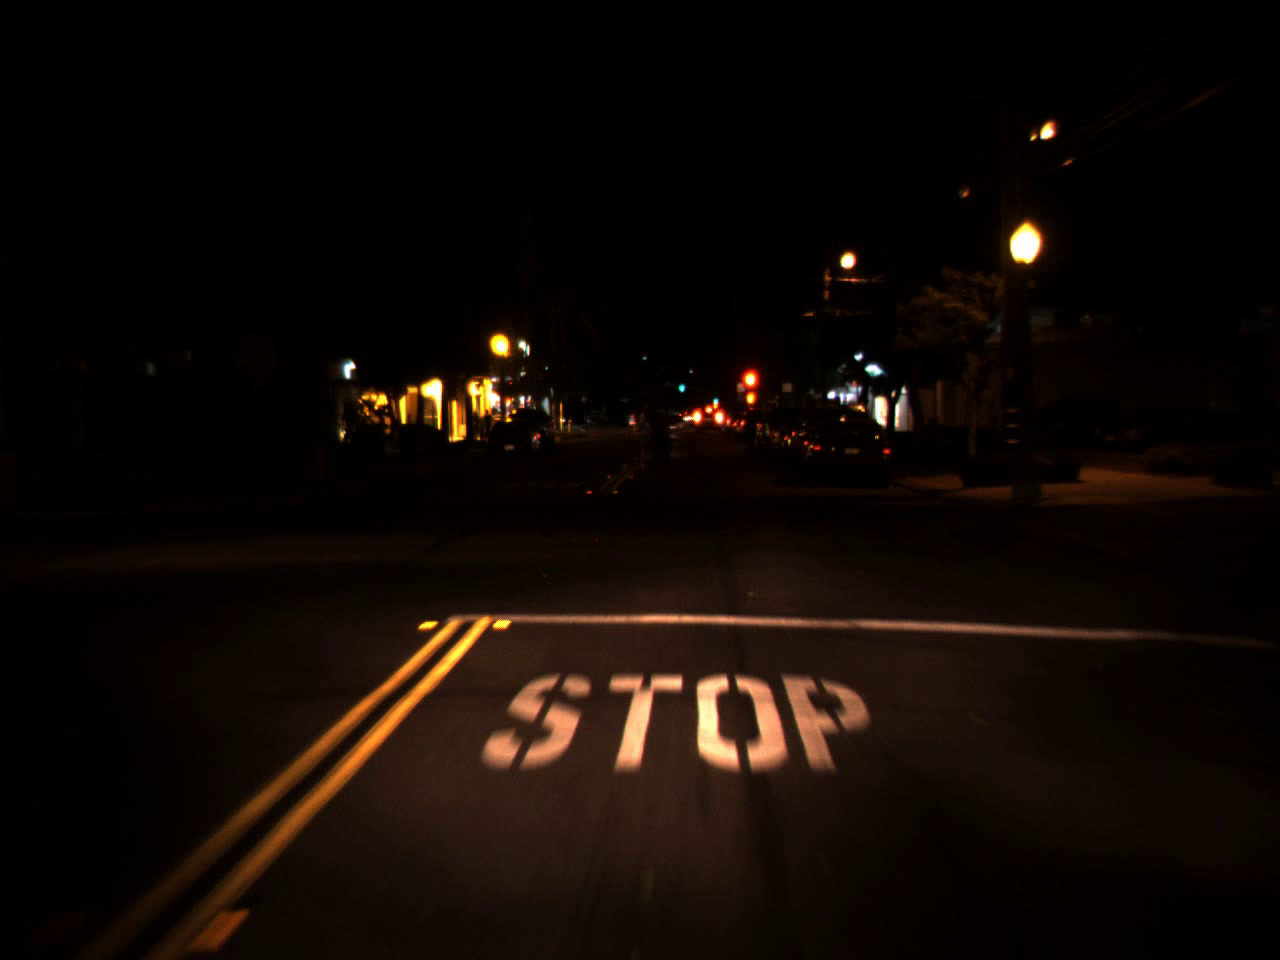go: (676, 377, 685, 395), (712, 392, 719, 404)
stop: (735, 365, 762, 413)
